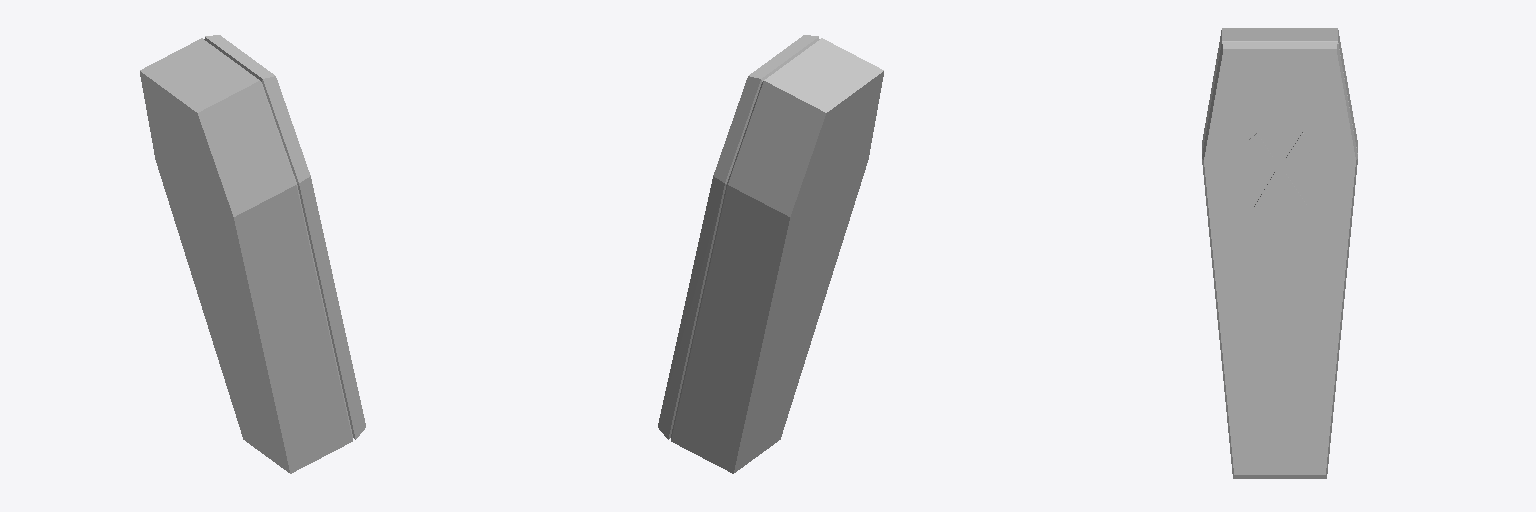
Rendered from coffinX.obj.
3 views of the same model, side by side, from view 1: azimuth 30°, elevation 25°; view 2: azimuth 150°, elevation 25°; view 3: azimuth 270°, elevation 25° (orthographic).
Visible parts, largest first — view 1: Cube.001; view 2: Cube.001; view 3: Cube.001.
Boxes of the visible parts, x1=… form: Cube.001: x1=140, y1=35, x2=365, y2=473; Cube.001: x1=658, y1=35, x2=883, y2=473; Cube.001: x1=1202, y1=28, x2=1357, y2=478.
Size of the model in its own units: 3.48 by 7.74 by 2.69.